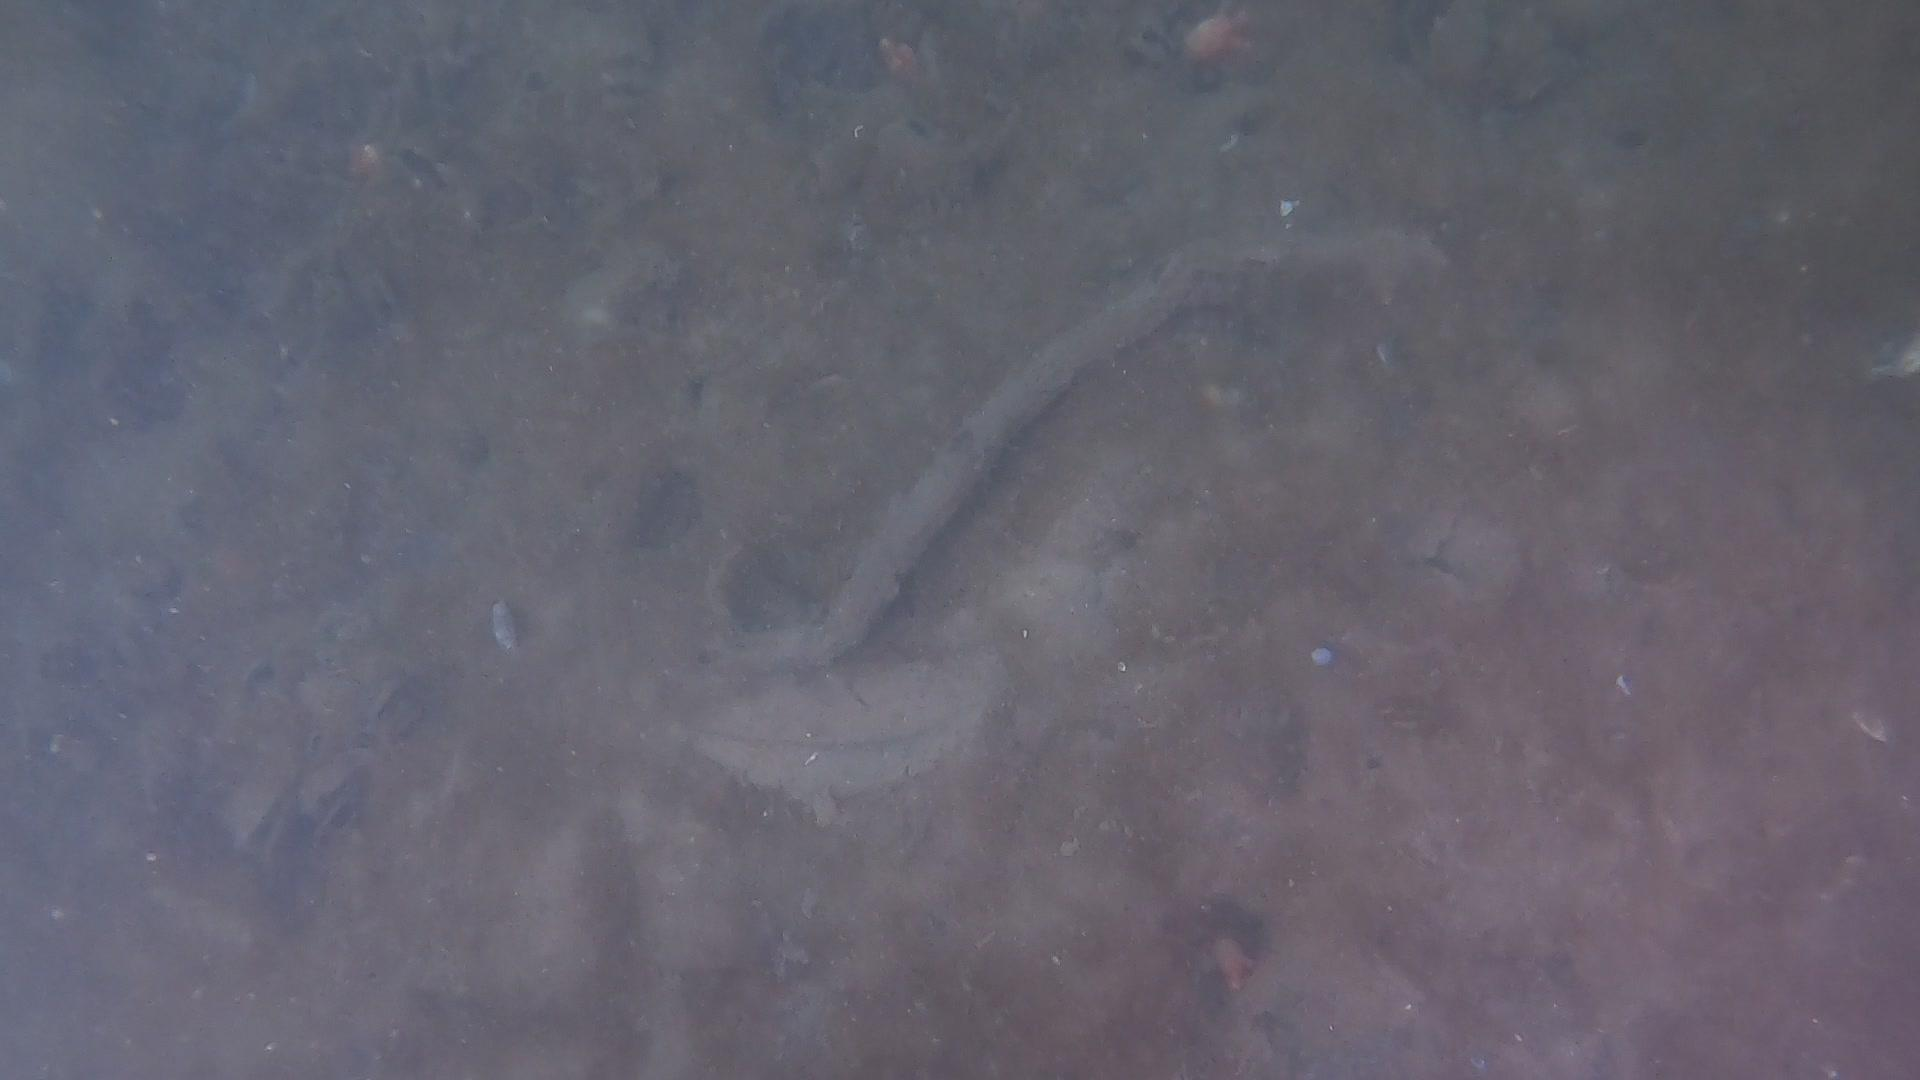wood: (705, 225, 1448, 670)
